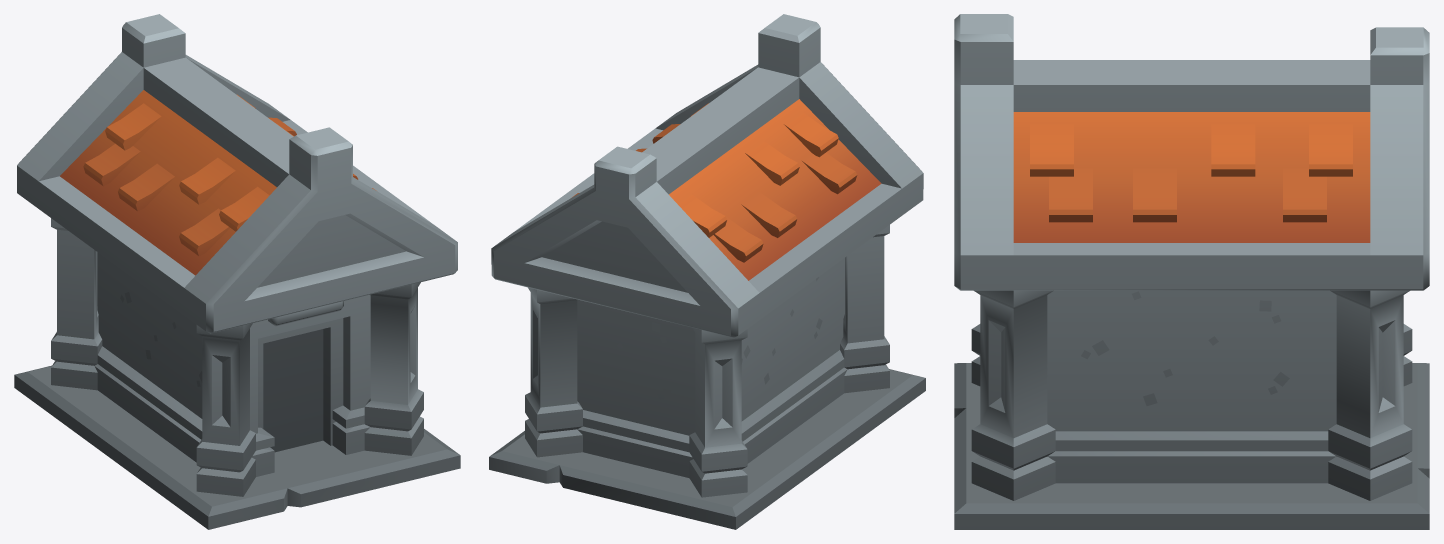
File: castles.glb
3 views of the same model, side by side, from view 1: azimuth 30°, elevation 25°; view 2: azimuth 150°, elevation 25°; view 3: azimuth 270°, elevation 25° (orthographic). The views are drawn at different scales.
Visible parts, largest first — view 1: crypt; view 2: crypt; view 3: crypt.
Part boxes in pixels (box(x1,y1,x2,y2)): crypt: box(14, 14, 460, 529); crypt: box(489, 14, 925, 529); crypt: box(954, 14, 1429, 529).
Bounding box in the file's own units: 6 × 8 × 8.
2 materials, 2 textured.
